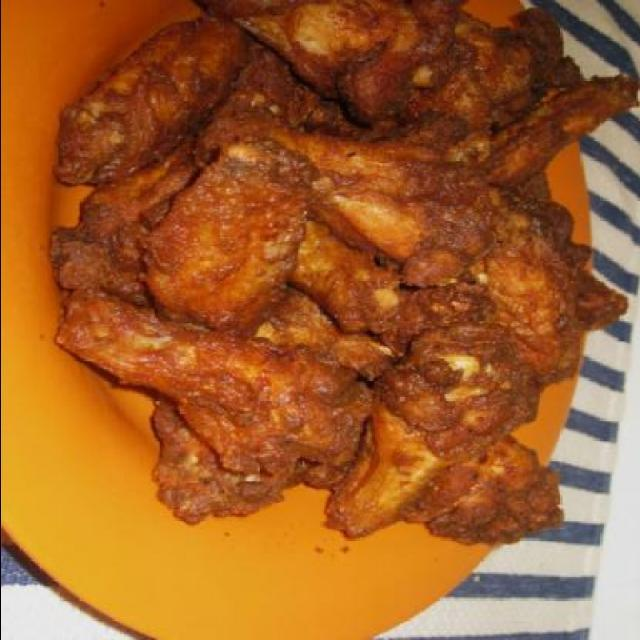Deep fried chicken wing: (86, 13, 592, 561)
